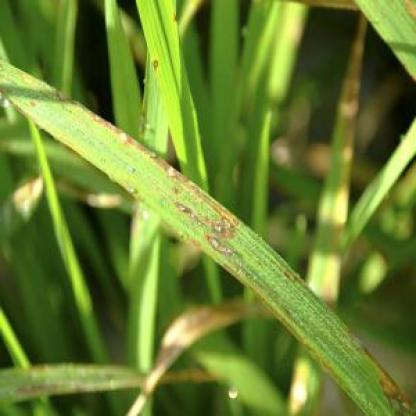Rice blast: (1, 43, 416, 416)
